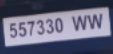0: (55, 17, 64, 33)
3: (36, 19, 44, 36), (46, 17, 54, 34)
5: (9, 21, 18, 38), (18, 20, 27, 37)
7: (27, 19, 35, 36)
w: (87, 12, 104, 30), (72, 13, 87, 32)
